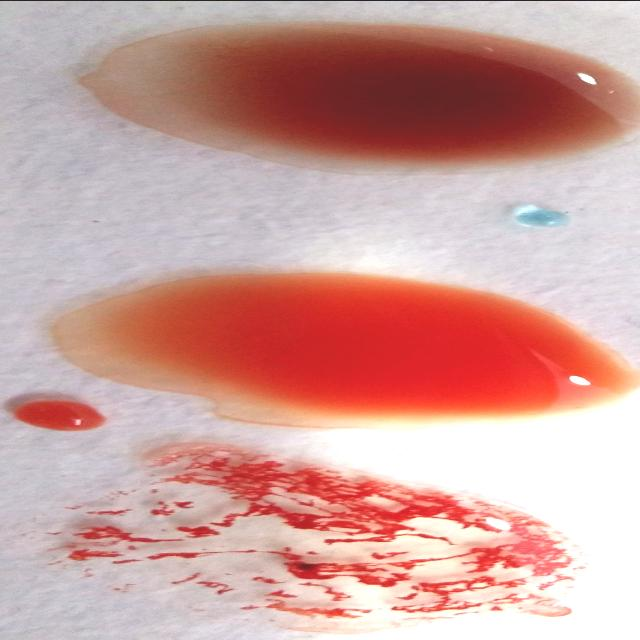D: (53, 472, 591, 622)
